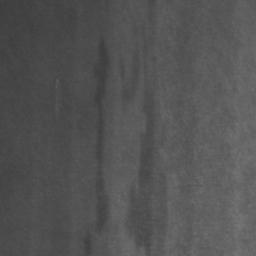Inclusion: (125, 92, 157, 250), (92, 38, 110, 227)
